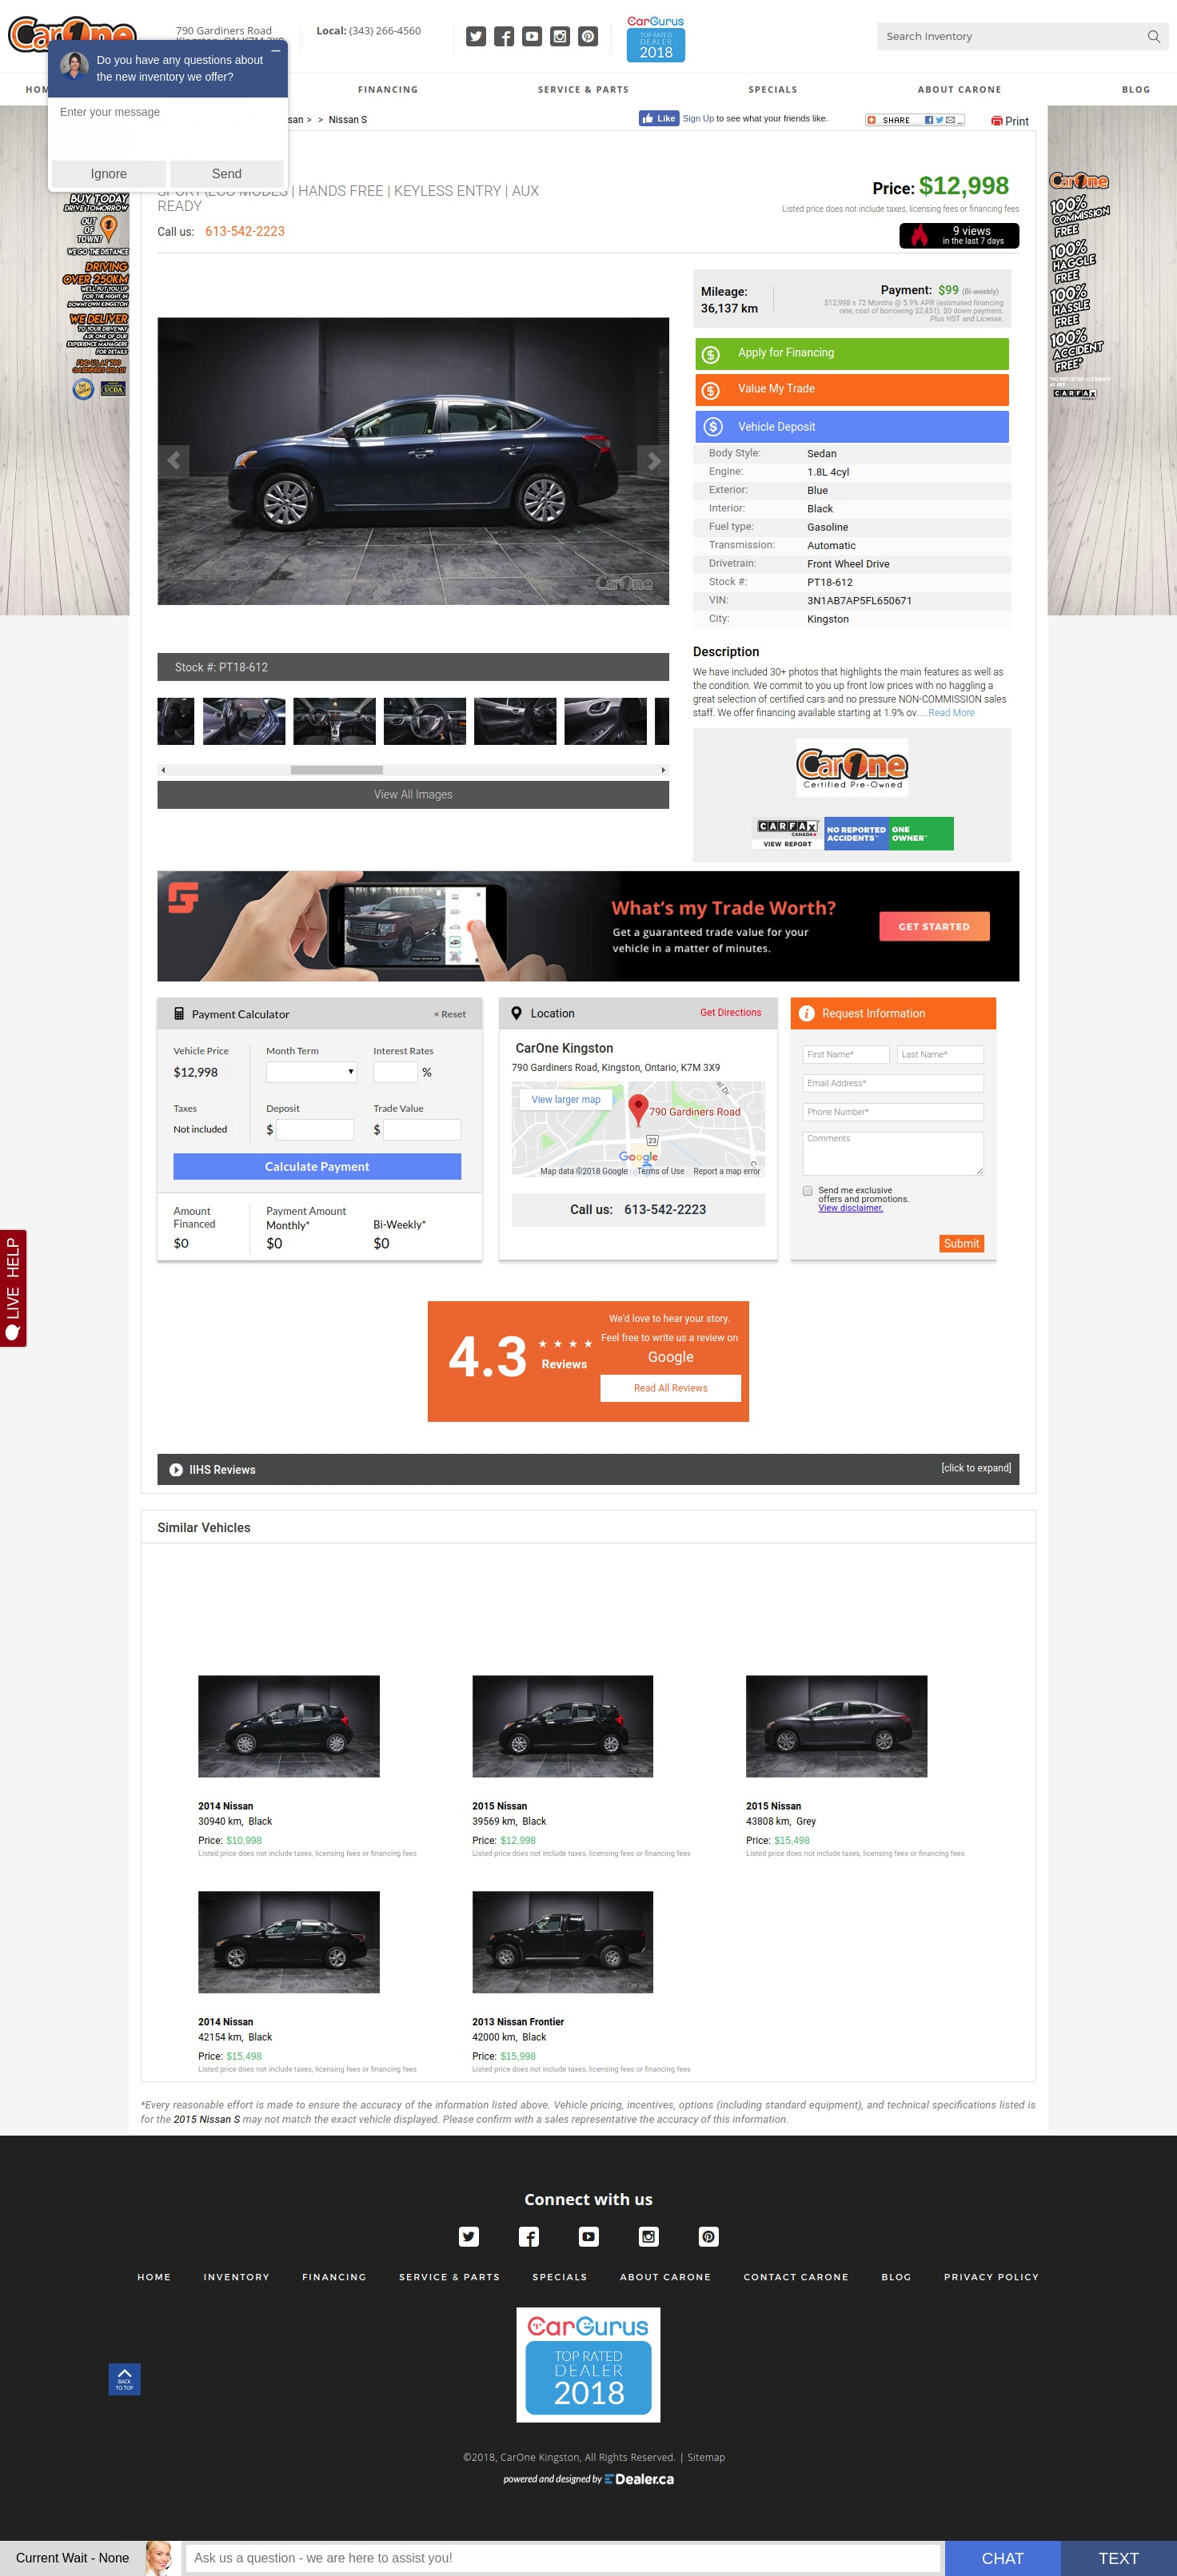car: (662, 769, 666, 774)
